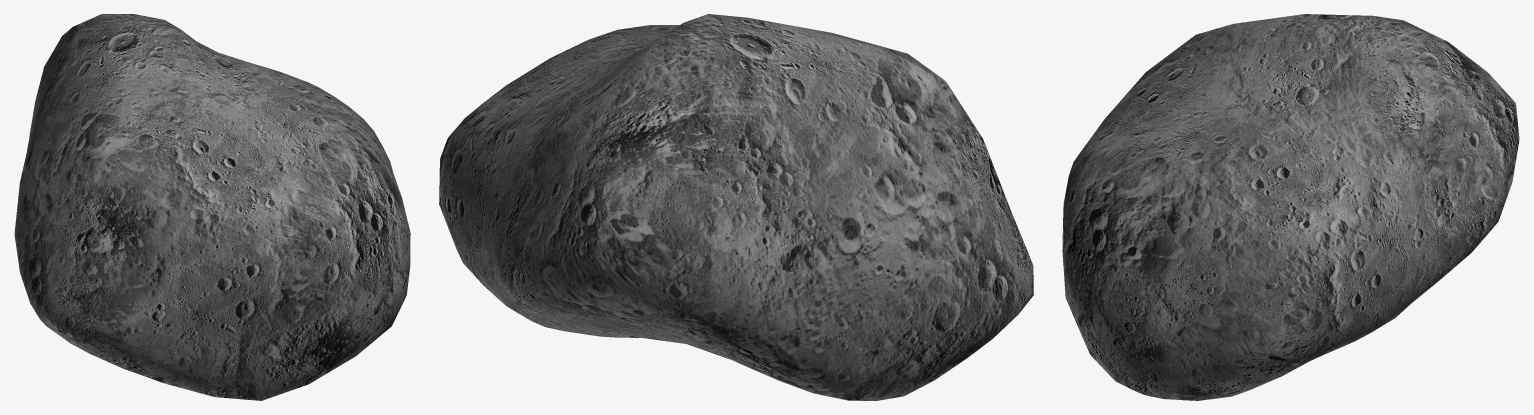
File: astroid 3.fbx
The picture shows the model from 3 angles, left to right: view 1: azimuth 30°, elevation 25°; view 2: azimuth 150°, elevation 25°; view 3: azimuth 270°, elevation 25°; orthographic projection. The views are drawn at different scales.
Visible parts, largest first — view 1: Icosphere; view 2: Icosphere; view 3: Icosphere.
Part boxes in pixels (box(x1,y1,x2,y2)): Icosphere: box(14, 14, 410, 400); Icosphere: box(439, 14, 1033, 400); Icosphere: box(1062, 14, 1519, 400).
Bounding box in the file's own units: 1012 × 790 × 974.
